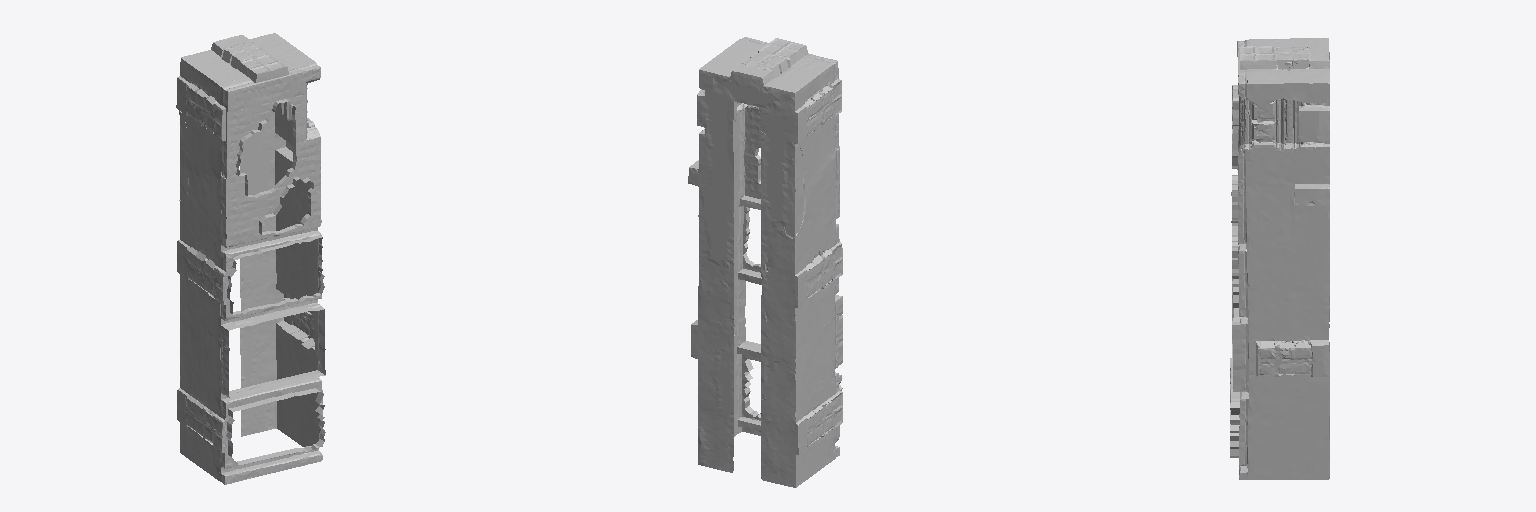
File: Corredor_3_TX_forest.obj
3 renders of one model, left to right at view 1: azimuth 30°, elevation 25°; view 2: azimuth 150°, elevation 25°; view 3: azimuth 270°, elevation 25°, orthographic.
Parts seen in each view (by area): view 1: default1; view 2: default1; view 3: default1.
Boxes of the visible parts, <box> form: default1: <box>176,33,325,484</box>; default1: <box>688,37,842,487</box>; default1: <box>1230,38,1329,479</box>.
Size of the model in its own units: 2.57 by 9.01 by 2.04.